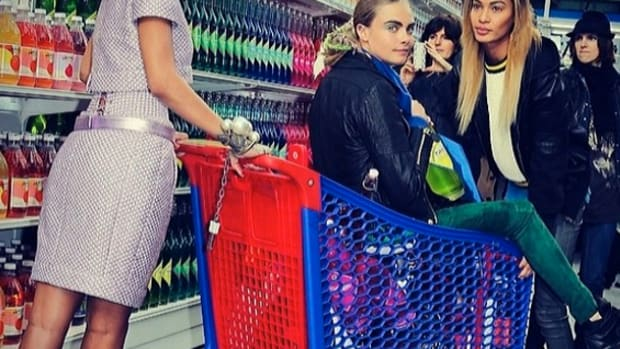Age_20_30: (471, 1, 519, 41), (575, 21, 609, 63)
Age_30_40: (356, 3, 418, 62), (429, 19, 460, 61)
E_Black: (471, 1, 519, 41)
E_White: (356, 3, 418, 62), (575, 21, 609, 63), (429, 19, 460, 61)
Emotion_Angry: (575, 21, 609, 63)
Emotion_Happy: (356, 3, 418, 62)
Emotion_Neutral: (471, 1, 519, 41), (429, 19, 460, 61)
G_ Female: (356, 3, 418, 62), (471, 1, 519, 41), (429, 19, 460, 61)
G_Male: (575, 21, 609, 63)
